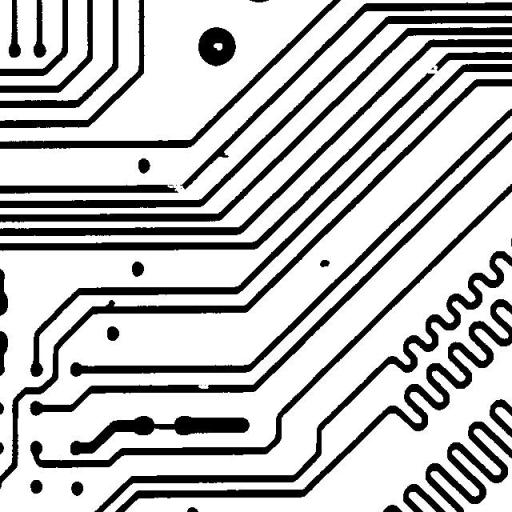copper: (312, 252, 337, 274)
mousebite: (190, 373, 216, 396)
open: (159, 176, 192, 203), (419, 58, 445, 80)
pin-hole: (206, 35, 230, 58)
short: (142, 416, 188, 437)
spur: (97, 292, 122, 318), (210, 143, 236, 165)
